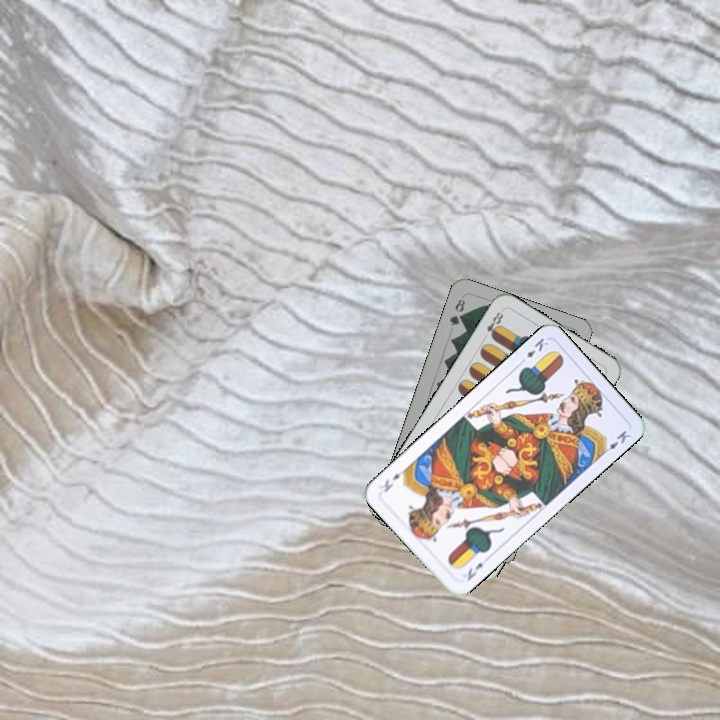E8: (482, 306, 506, 341)
EK: (516, 333, 551, 367), (463, 558, 486, 584)
G8: (445, 295, 468, 329)
